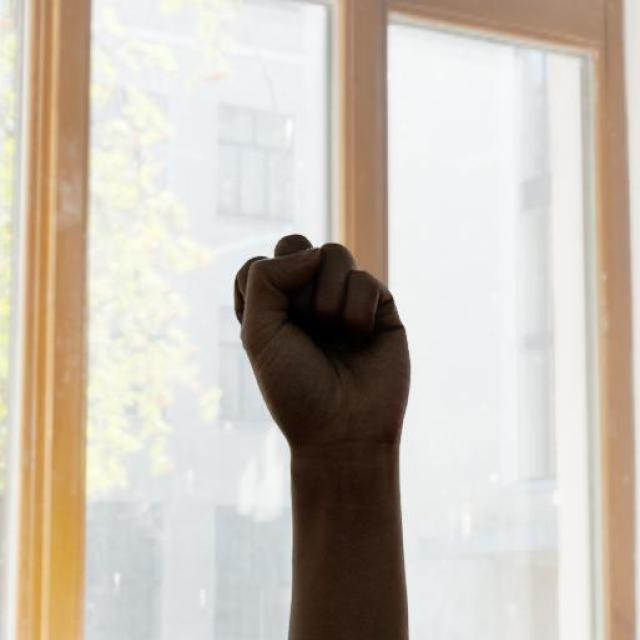S: (228, 227, 419, 458)
